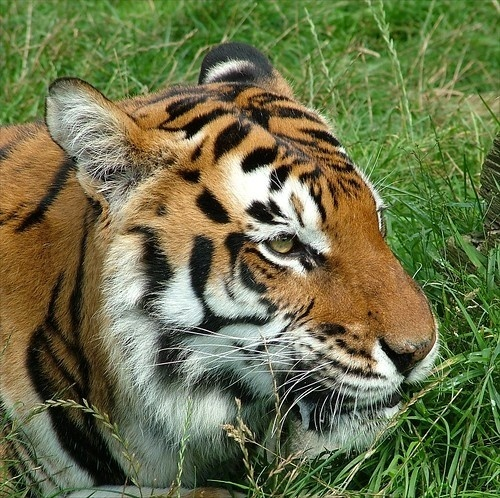tigre: (1, 40, 434, 488)
